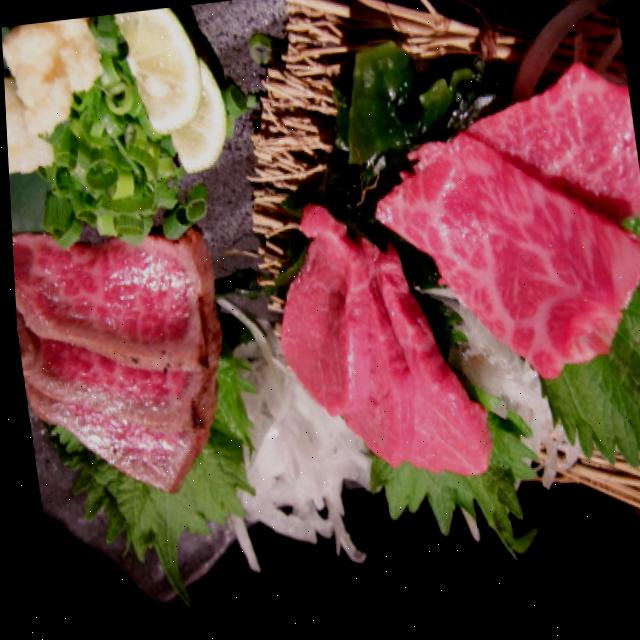刺身生食: (1, 9, 640, 606)
